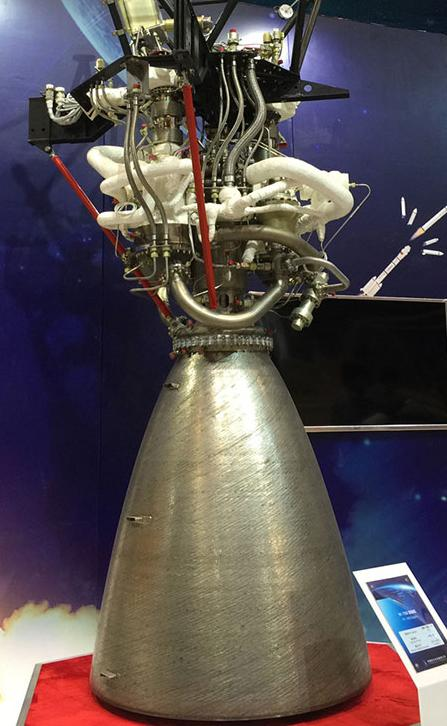thruster: (83, 356, 375, 726)
